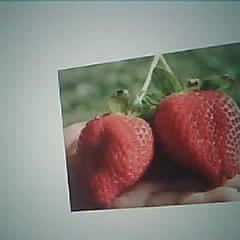straw-ripe: (156, 91, 240, 180), (78, 112, 154, 205)
